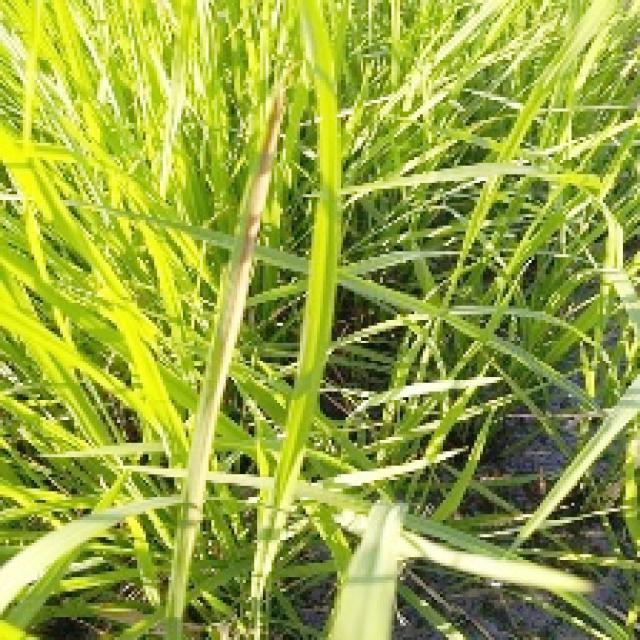health: (2, 0, 229, 630)
